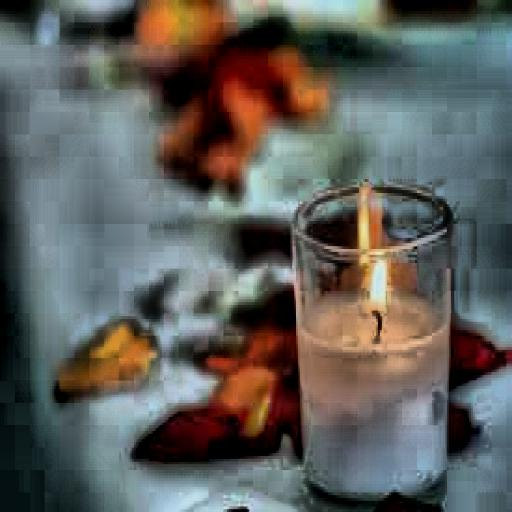fire: (357, 249, 391, 313)
